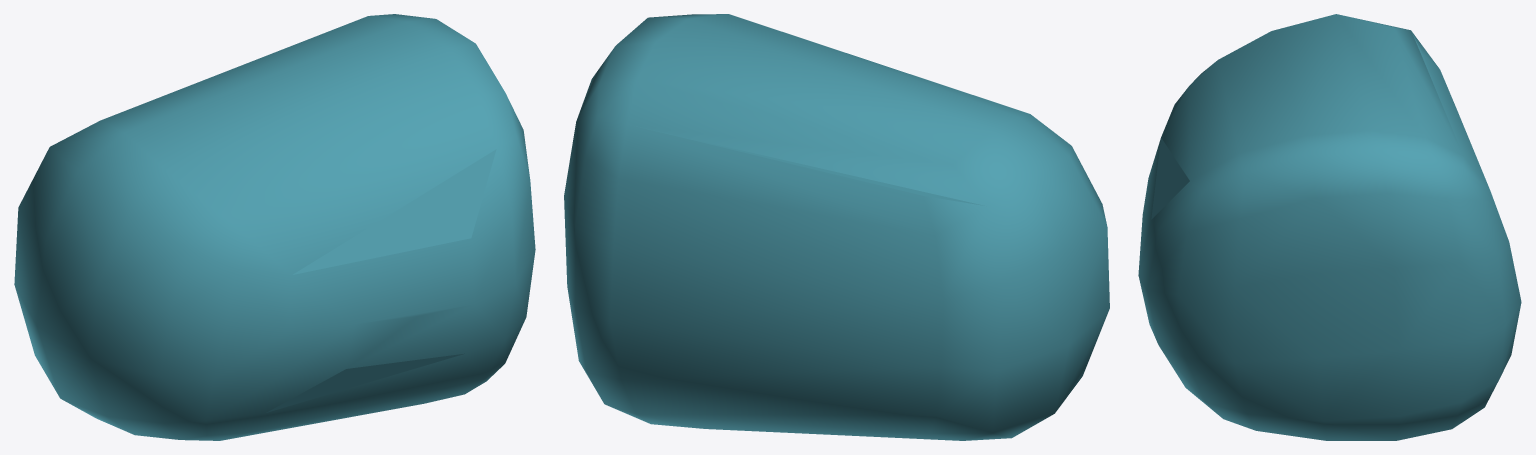
File: COL_Alpha_Surface_039_convex_hull.dae
3 renders of one model, left to right at view 1: azimuth 30°, elevation 25°; view 2: azimuth 150°, elevation 25°; view 3: azimuth 270°, elevation 25°, orthographic. The views are drawn at different scales.
Parts seen in each view (by area): view 1: COL_Alpha_Surface_039_convex_hull; view 2: COL_Alpha_Surface_039_convex_hull; view 3: COL_Alpha_Surface_039_convex_hull.
Part boxes in pixels (x1,y1,x2,y2): COL_Alpha_Surface_039_convex_hull: (14,14,535,440); COL_Alpha_Surface_039_convex_hull: (564,14,1109,440); COL_Alpha_Surface_039_convex_hull: (1138,14,1521,440).
Size of the model in its own units: 3.42 by 2.72 by 2.5.
